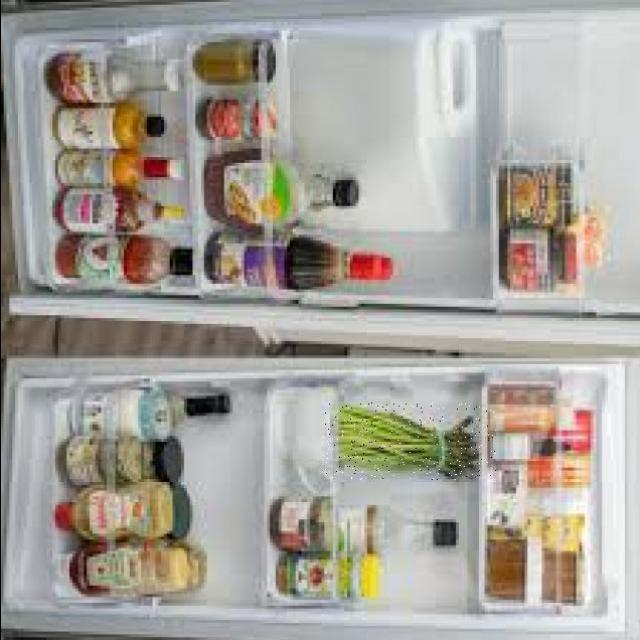asparagus: (324, 403, 496, 481)
